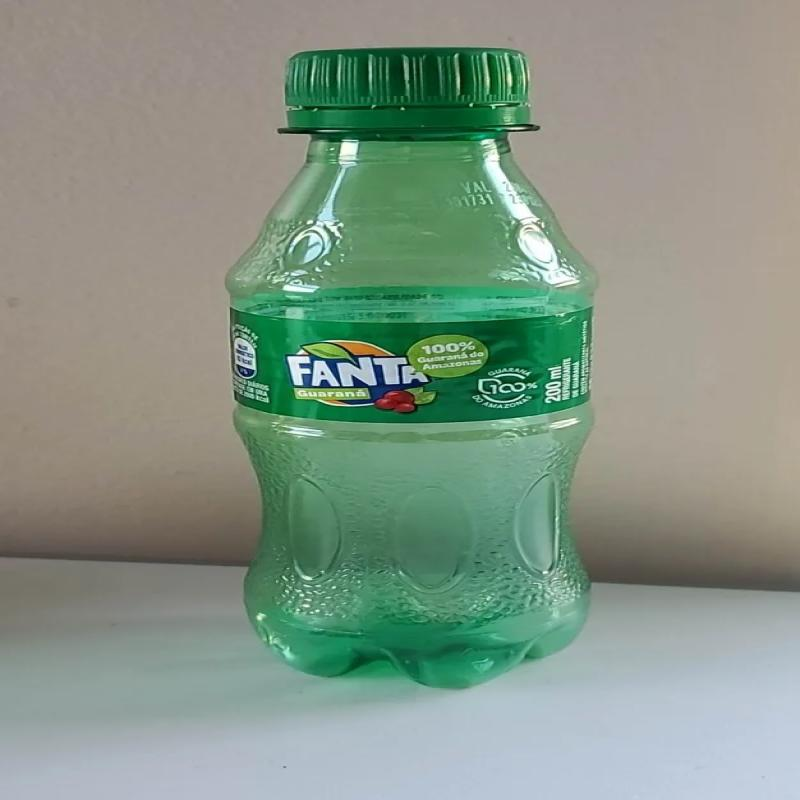botella: (214, 45, 617, 690)
